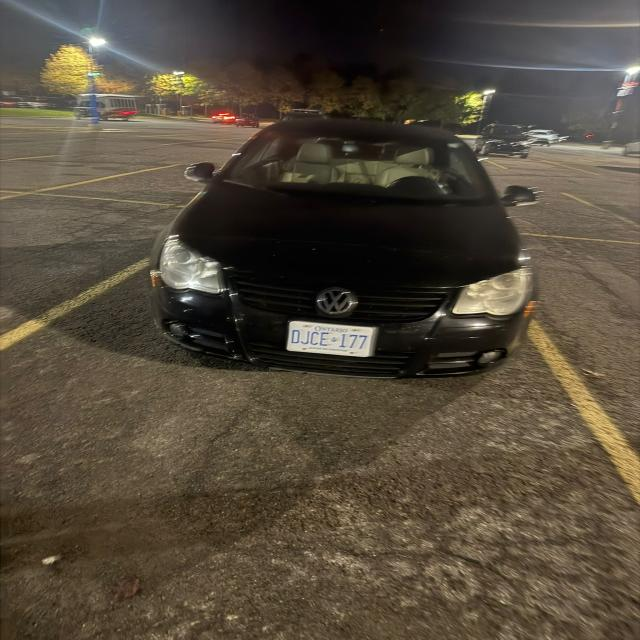plaque: (287, 321, 377, 357)
